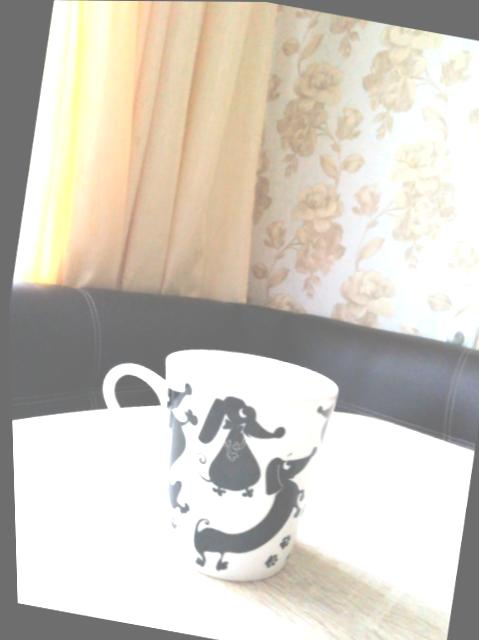Cup: (102, 349, 337, 581)
